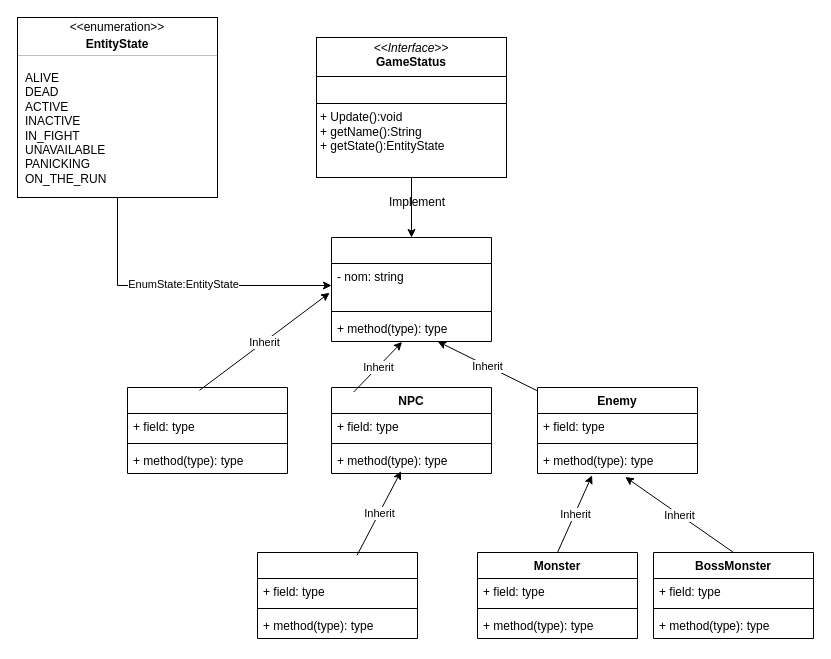
This 831x659 diagram has some shape labels left out. Here are the shapes that lost their labels. From the top down, the box of each, then its label:
(330, 236, 492, 342): Entity
(126, 386, 288, 474): Item
(256, 552, 418, 638): Allies
